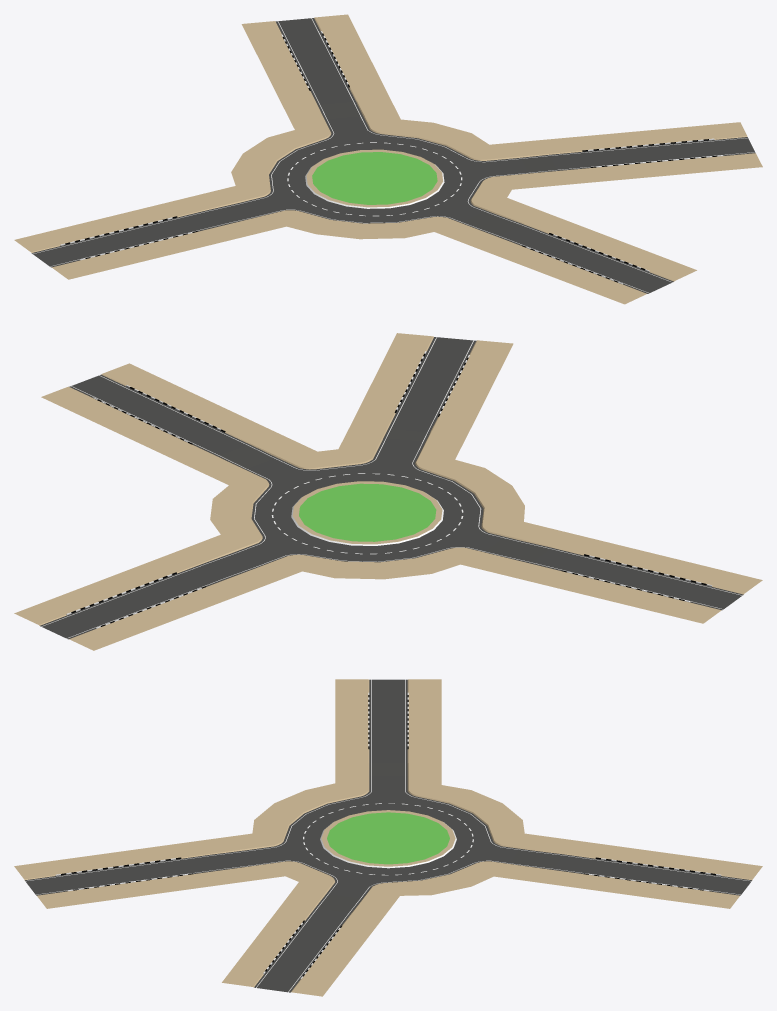
The model's file is traffic_roundabout_long.fbx.
3 renders of one model, top to bottom at view 1: azimuth 30°, elevation 25°; view 2: azimuth 150°, elevation 25°; view 3: azimuth 270°, elevation 25°, orthographic. The views are drawn at different scales.
Parts seen in each view (by area): view 1: traffic_roundabout; view 2: traffic_roundabout; view 3: traffic_roundabout.
Part boxes in pixels (x1,y1,x2,y2): traffic_roundabout: (14,14,762,304); traffic_roundabout: (14,333,762,650); traffic_roundabout: (14,679,762,996).
Bounding box in the file's own units: 11830 × 23.46 × 11799.
